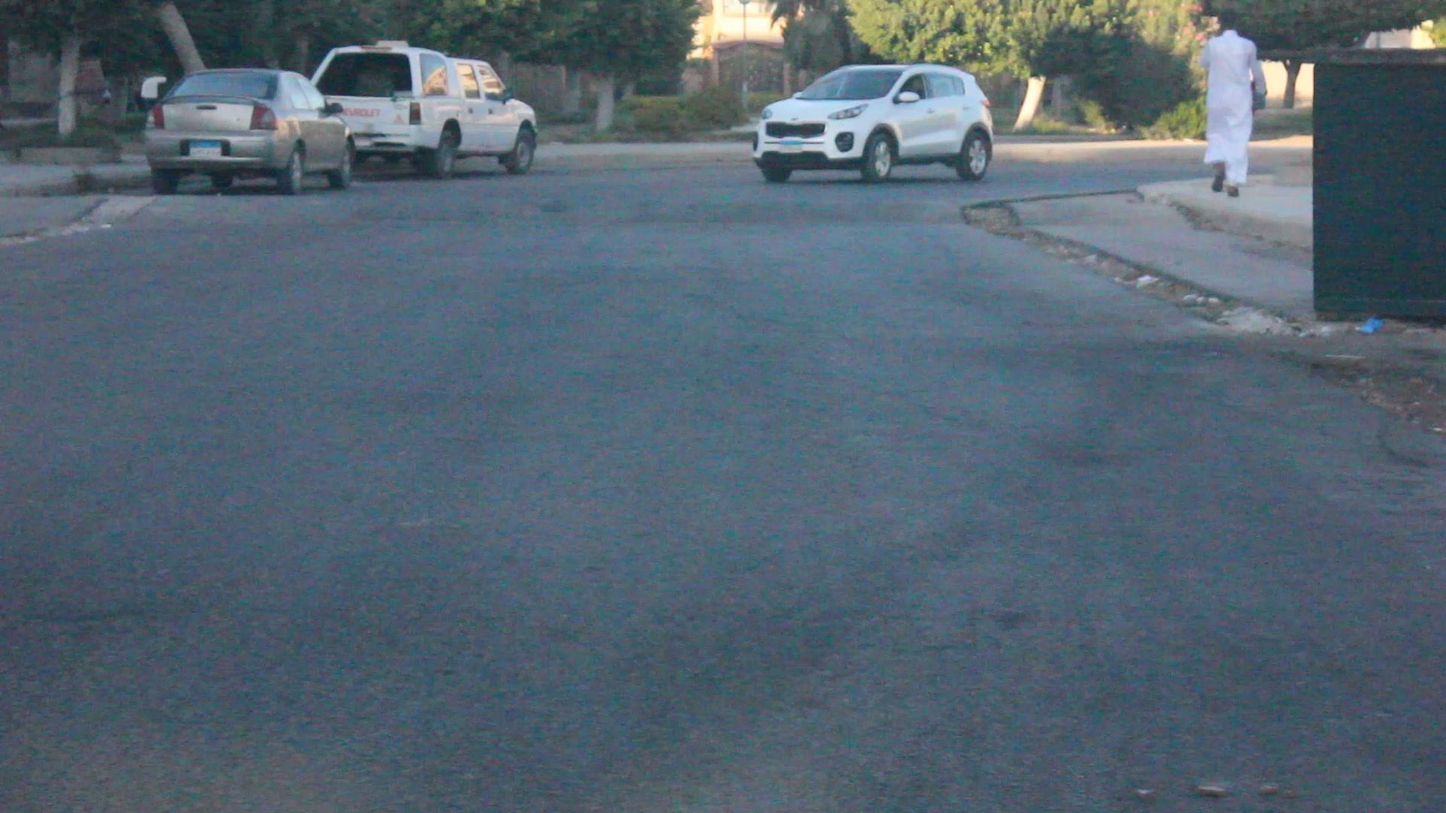Bump: (34, 184, 972, 230)
